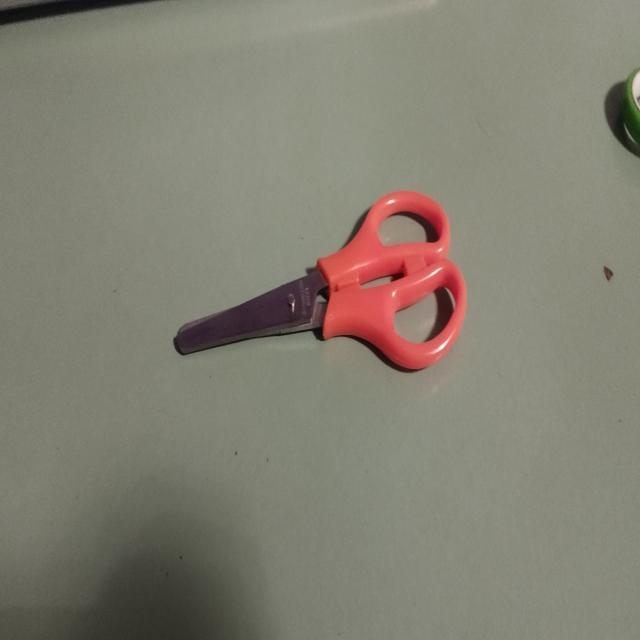tesoura: (168, 172, 470, 386)
